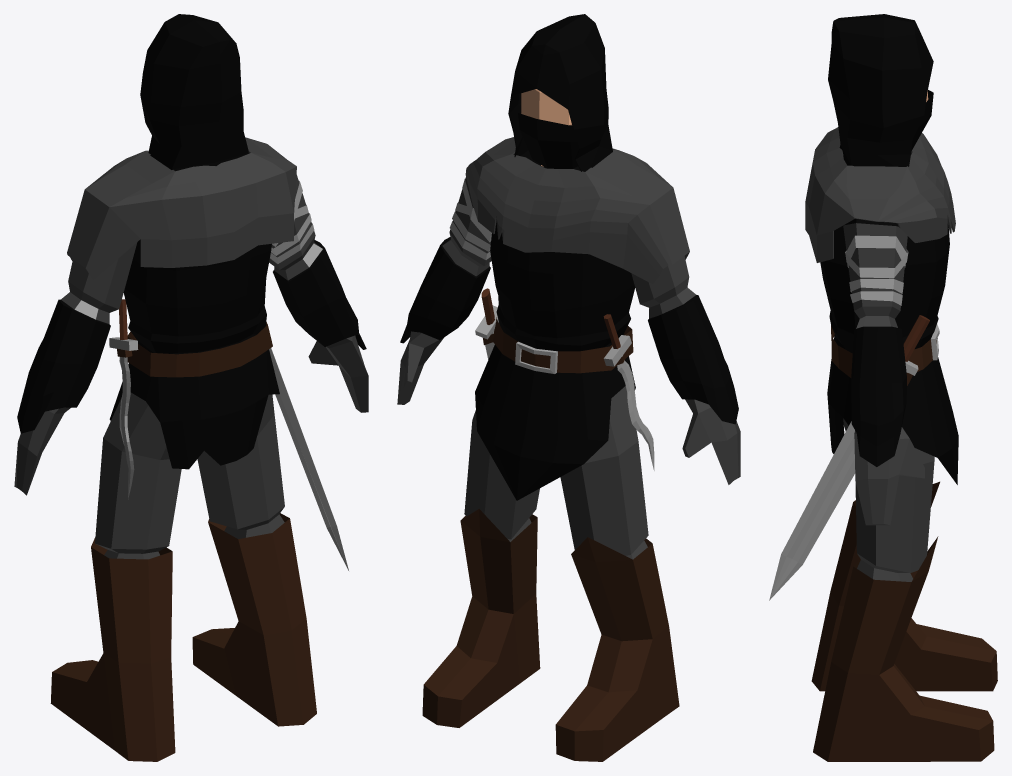
File: Rogue.fbx
The picture shows the model from 3 angles, left to right: view 1: azimuth 30°, elevation 25°; view 2: azimuth 150°, elevation 25°; view 3: azimuth 270°, elevation 25°; orthographic projection. The views are drawn at different scales.
Visible parts, largest first — view 1: BootLeft, BootLeft.001, BootLeft.003, LightSword, Flamberg; view 2: BootLeft, BootLeft.001, BootLeft.003, BootLeft.002, Flamberg, LightSword; view 3: BootLeft, BootLeft.003, BootLeft.001, LightSword.
Boxes of the visible parts, x1=… form: BootLeft: x1=14, y1=175, x2=368, y2=761; BootLeft.001: x1=67, y1=137, x2=296, y2=279; BootLeft.003: x1=140, y1=14, x2=248, y2=171; LightSword: x1=269, y1=348, x2=348, y2=570; Flamberg: x1=109, y1=299, x2=138, y2=499; BootLeft: x1=397, y1=89, x2=740, y2=761; BootLeft.001: x1=465, y1=137, x2=689, y2=284; BootLeft.003: x1=508, y1=14, x2=612, y2=171; BootLeft.002: x1=518, y1=104, x2=579, y2=168; Flamberg: x1=603, y1=314, x2=654, y2=470; LightSword: x1=475, y1=288, x2=498, y2=359; BootLeft: x1=811, y1=90, x2=997, y2=761; BootLeft.003: x1=828, y1=14, x2=933, y2=166; BootLeft.001: x1=805, y1=127, x2=955, y2=262; LightSword: x1=769, y1=315, x2=929, y2=600.
Bounding box in the file's own units: 115 × 223 × 66.19.
